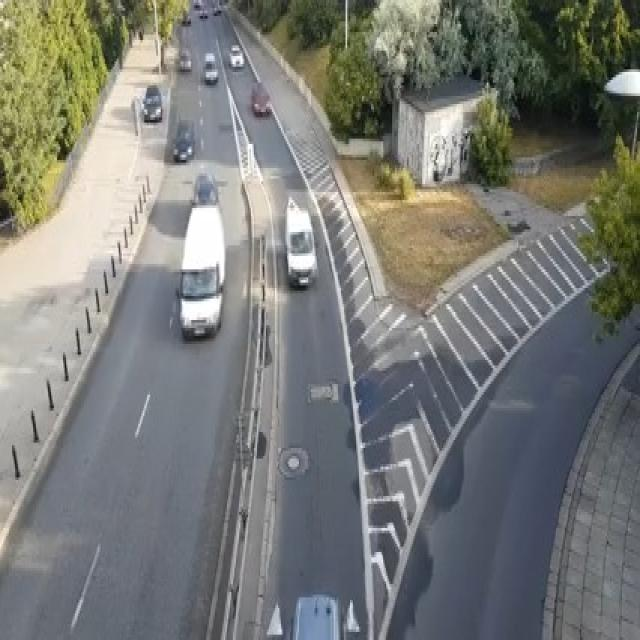car: (176, 202, 225, 338), (284, 195, 317, 288), (173, 117, 194, 160), (192, 171, 218, 205), (143, 83, 162, 120), (251, 80, 270, 115), (203, 51, 218, 82), (228, 42, 244, 66), (179, 46, 191, 70), (182, 11, 191, 24), (198, 8, 208, 19), (192, 0, 202, 8), (213, 5, 221, 14)
